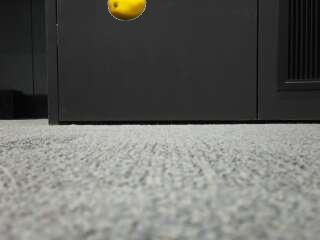lemon: (110, 0, 146, 20)
